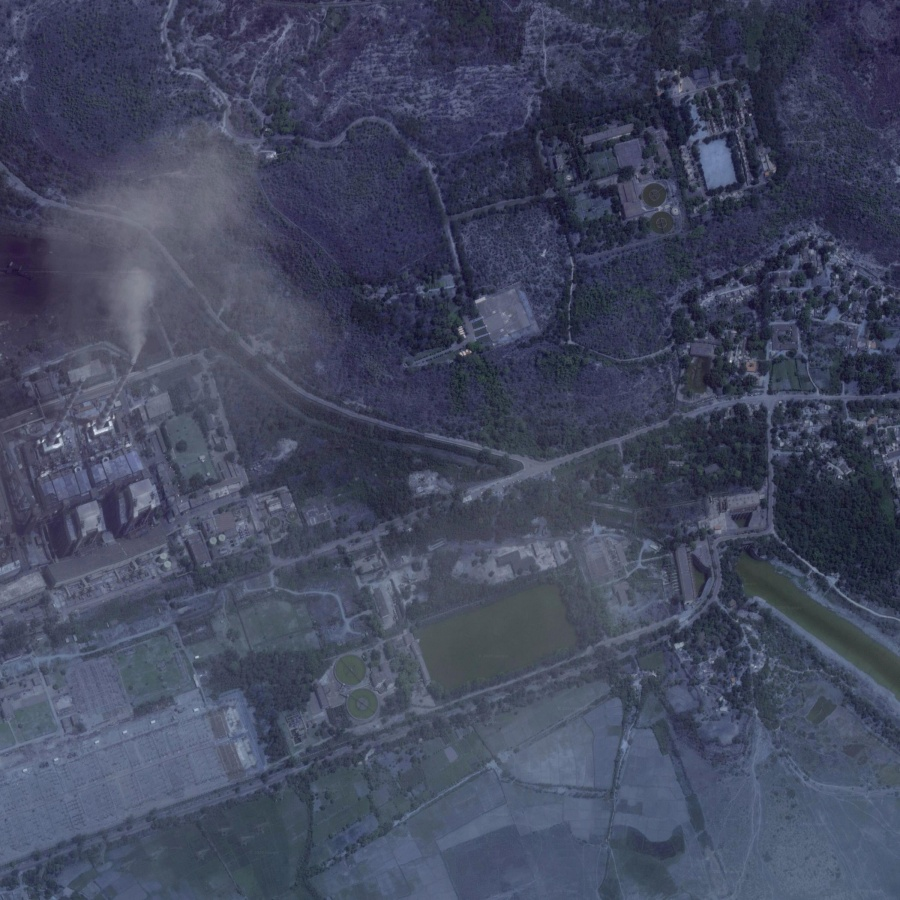PowerPlant: (404, 562, 586, 710)
